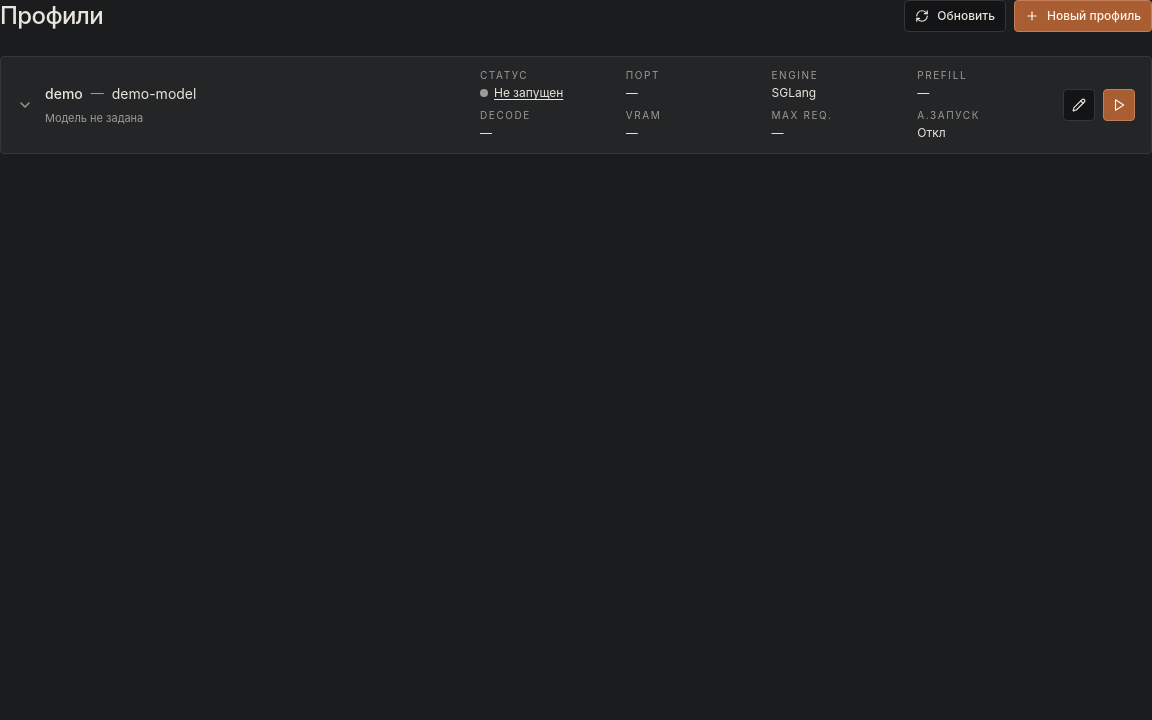
Explicit profile port › keeps an empty port empty instead of inserting a default
The image size is (1152, 720).
Click the button named "Изменить" at (1079, 105), box x1=1063 y1=89 x2=1095 y2=121
(page scrolled)
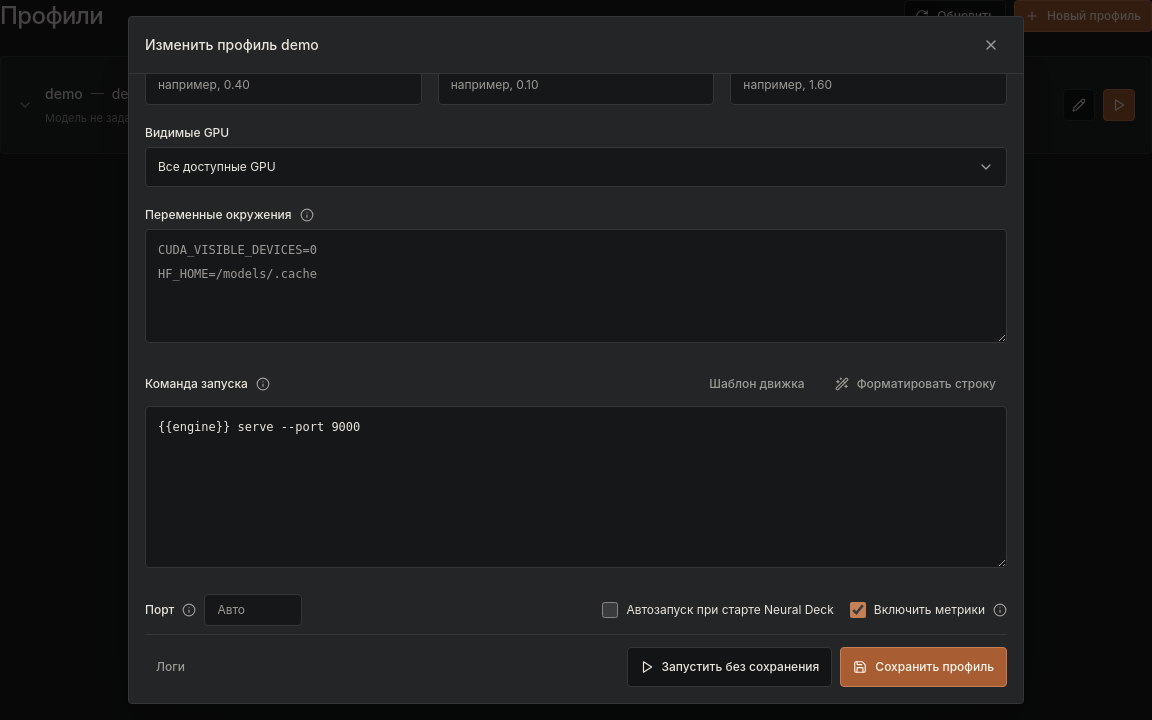
Now the number field labelled "Порт" is not empty, box x1=204 y1=594 x2=302 y2=626
Now the text box labelled "Команда запуска" holds "{{engine}} serve --port 9000", box x1=145 y1=406 x2=1007 y2=568
